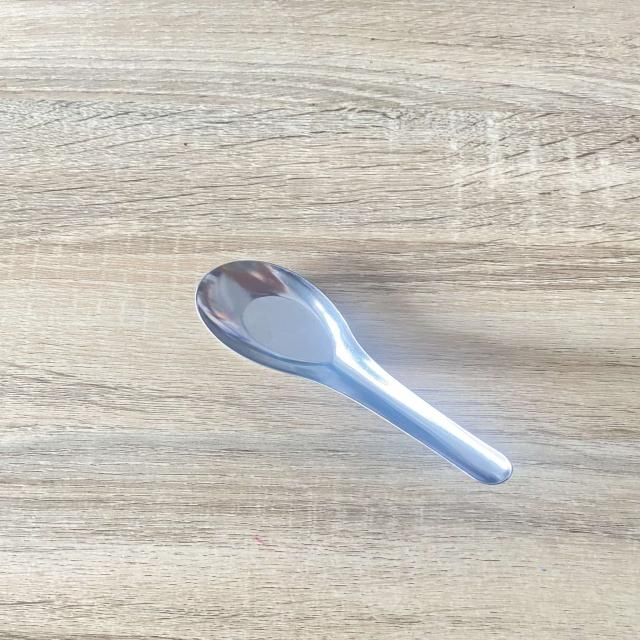short-spoon: (180, 257, 529, 490)
